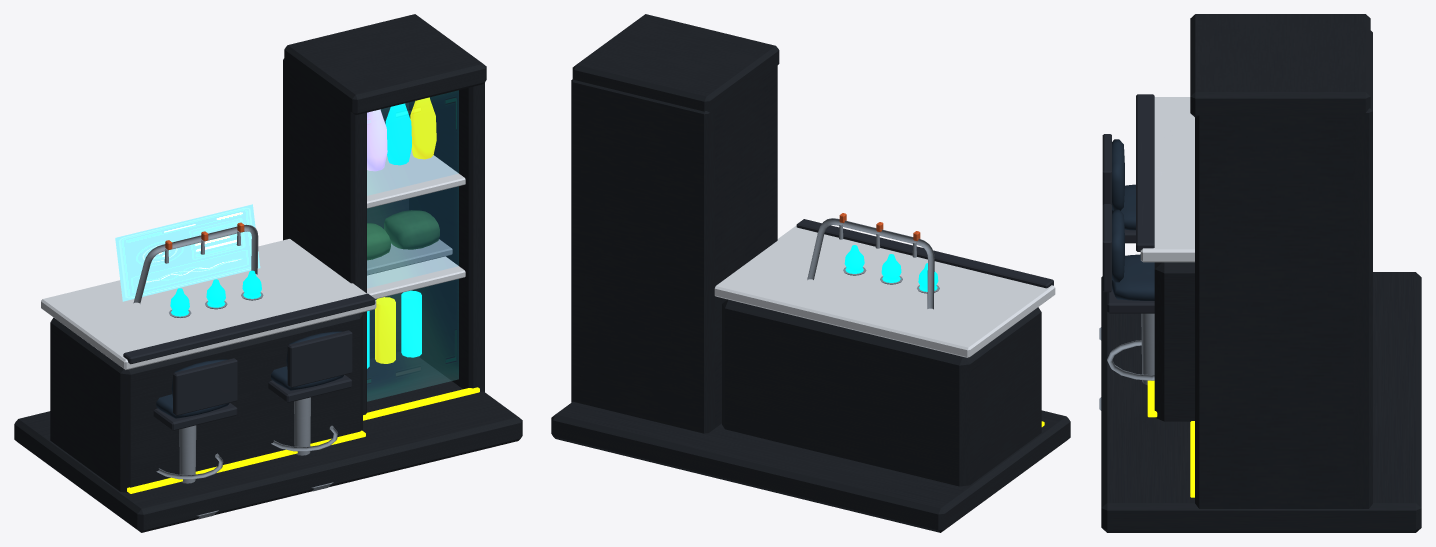
File: lounge_bar_r1_02.glb
3 views of the same model, side by side, from view 1: azimuth 30°, elevation 25°; view 2: azimuth 150°, elevation 25°; view 3: azimuth 270°, elevation 25° (orthographic). The views are drawn at different scales.
Parts seen in each view (by area): view 1: Lounge02_SplitBayGunmetalChassis, Lounge02_TranslucentDecanterTowerGlass, Lounge02_AerospaceWhiteCounterAndTowerShelves, Lounge02_CharcoalArmrestBolsterAndStools, Lounge02_OLEDCelestialStarMapConsole, Lounge02_MachinedSteelSiphonArchAndPedestals, Lounge02_AmberDecantersAndFootrailGlow, Lounge02_CyanInfusionDecantersAndBulbGlasses, Lounge02_AeroponicHerbGarnishTrough, Lounge02_OrbitalNavyBarstoolCushions, Lounge02_UVVioletDecanterAndGrowBar; view 2: Lounge02_SplitBayGunmetalChassis, Lounge02_AerospaceWhiteCounterAndTowerShelves, Lounge02_CharcoalArmrestBolsterAndStools, Lounge02_MachinedSteelSiphonArchAndPedestals, Lounge02_CyanInfusionDecantersAndBulbGlasses; view 3: Lounge02_SplitBayGunmetalChassis, Lounge02_AerospaceWhiteCounterAndTowerShelves, Lounge02_CharcoalArmrestBolsterAndStools, Lounge02_OrbitalNavyBarstoolCushions, Lounge02_MachinedSteelSiphonArchAndPedestals, Lounge02_AmberDecantersAndFootrailGlow.
Boxes of the visible parts, bbox=[...] form: Lounge02_SplitBayGunmetalChassis: bbox=[14, 14, 522, 532]; Lounge02_TranslucentDecanterTowerGlass: bbox=[367, 91, 458, 400]; Lounge02_AerospaceWhiteCounterAndTowerShelves: bbox=[41, 149, 465, 369]; Lounge02_CharcoalArmrestBolsterAndStools: bbox=[123, 293, 375, 430]; Lounge02_OLEDCelestialStarMapConsole: bbox=[115, 204, 260, 301]; Lounge02_MachinedSteelSiphonArchAndPedestals: bbox=[133, 224, 452, 519]; Lounge02_AmberDecantersAndFootrailGlow: bbox=[127, 97, 479, 493]; Lounge02_CyanInfusionDecantersAndBulbGlasses: bbox=[170, 103, 421, 368]; Lounge02_AeroponicHerbGarnishTrough: bbox=[367, 210, 439, 260]; Lounge02_OrbitalNavyBarstoolCushions: bbox=[156, 331, 343, 418]; Lounge02_UVVioletDecanterAndGrowBar: bbox=[367, 109, 387, 171]; Lounge02_SplitBayGunmetalChassis: bbox=[551, 14, 1070, 532]; Lounge02_AerospaceWhiteCounterAndTowerShelves: bbox=[714, 225, 1055, 357]; Lounge02_CharcoalArmrestBolsterAndStools: bbox=[796, 219, 1053, 288]; Lounge02_MachinedSteelSiphonArchAndPedestals: bbox=[807, 218, 939, 309]; Lounge02_CyanInfusionDecantersAndBulbGlasses: bbox=[844, 245, 938, 291]; Lounge02_SplitBayGunmetalChassis: bbox=[1101, 14, 1421, 532]; Lounge02_AerospaceWhiteCounterAndTowerShelves: bbox=[1140, 97, 1194, 262]; Lounge02_CharcoalArmrestBolsterAndStools: bbox=[1102, 94, 1154, 313]; Lounge02_OrbitalNavyBarstoolCushions: bbox=[1112, 139, 1154, 300]; Lounge02_MachinedSteelSiphonArchAndPedestals: bbox=[1099, 313, 1154, 410]; Lounge02_AmberDecantersAndFootrailGlow: bbox=[1147, 380, 1194, 497].
Size of the model in its own units: 2.35 by 2.05 by 1.36.
12 materials, 12 textured.
